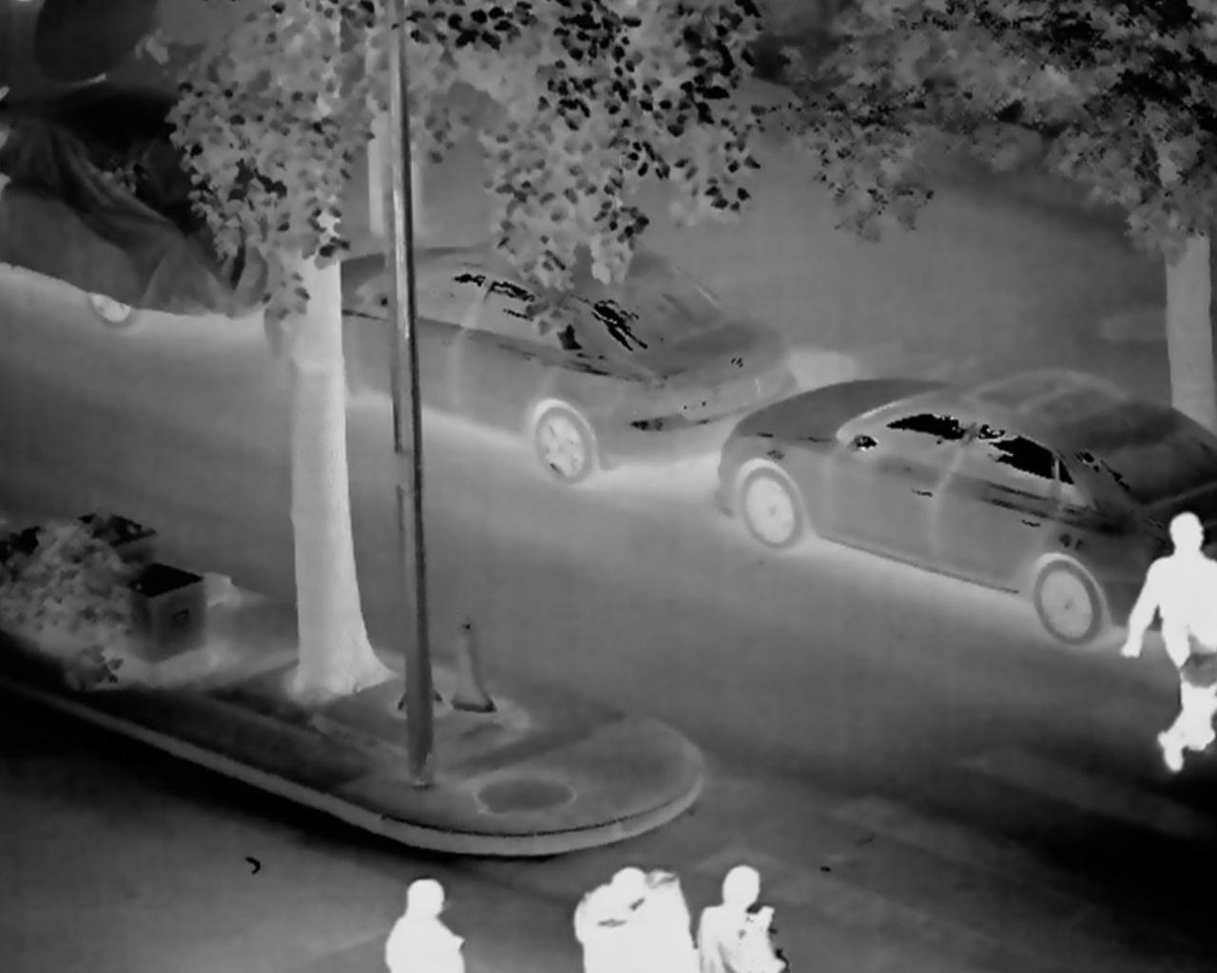person: (1101, 487, 1217, 778), (571, 868, 700, 973), (697, 837, 787, 973), (381, 868, 491, 973)
